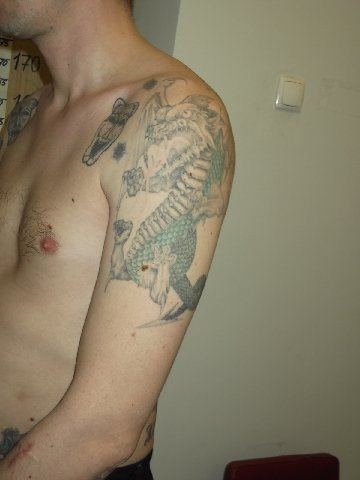tatu6_drakon: (88, 57, 247, 338)
tatu8_kot: (71, 85, 140, 174)
